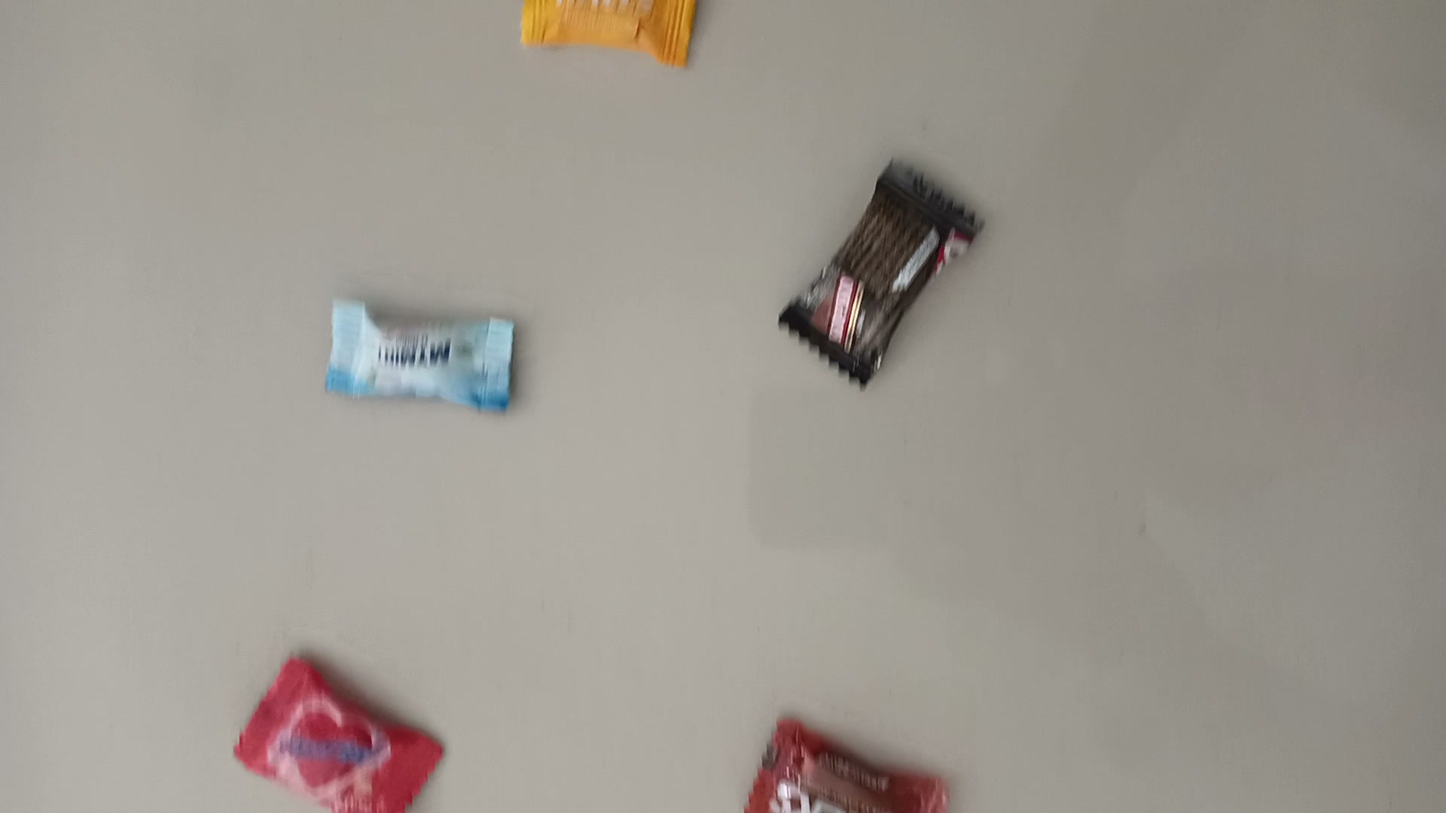HACK: (753, 716, 956, 813)
HALLS: (503, 0, 701, 60)
HB: (245, 688, 435, 803)
KOPIKO: (799, 166, 967, 368)
MYM: (321, 293, 516, 411)
